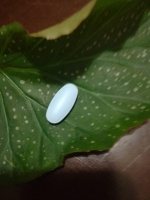Apranax: (45, 82, 80, 126)
